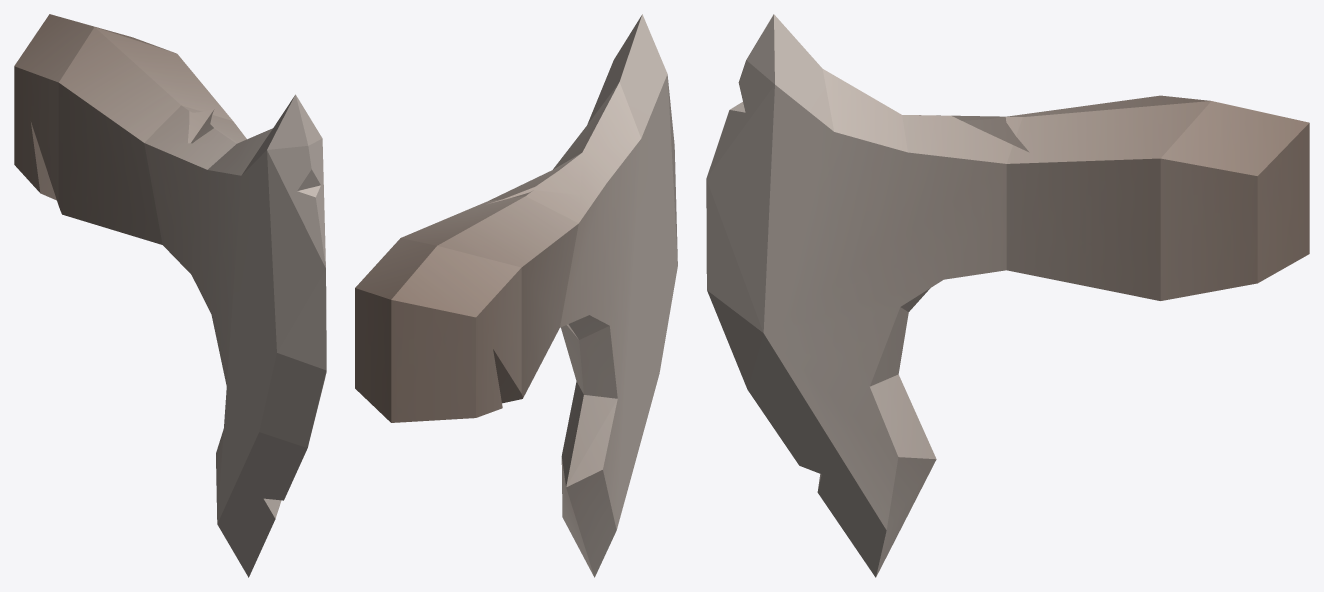
Rendered from axeHeadTwoHanded.fbx.
3 views of the same model, side by side, from view 1: azimuth 30°, elevation 25°; view 2: azimuth 150°, elevation 25°; view 3: azimuth 270°, elevation 25° (orthographic). The views are drawn at different scales.
Visible parts, largest first — view 1: Lemmet.002, Lemmet.003; view 2: Lemmet.002, Lemmet.003; view 3: Lemmet.002, Lemmet.003.
Part boxes in pixels (<box>): Lemmet.002: <box>144,94,326,577</box>; Lemmet.003: <box>14,14,246,244</box>; Lemmet.002: <box>553,14,677,577</box>; Lemmet.003: <box>355,152,606,422</box>; Lemmet.002: <box>706,14,1006,577</box>; Lemmet.003: <box>902,95,1309,300</box>.
Size of the model in its own units: 39.81 by 166 by 161.
